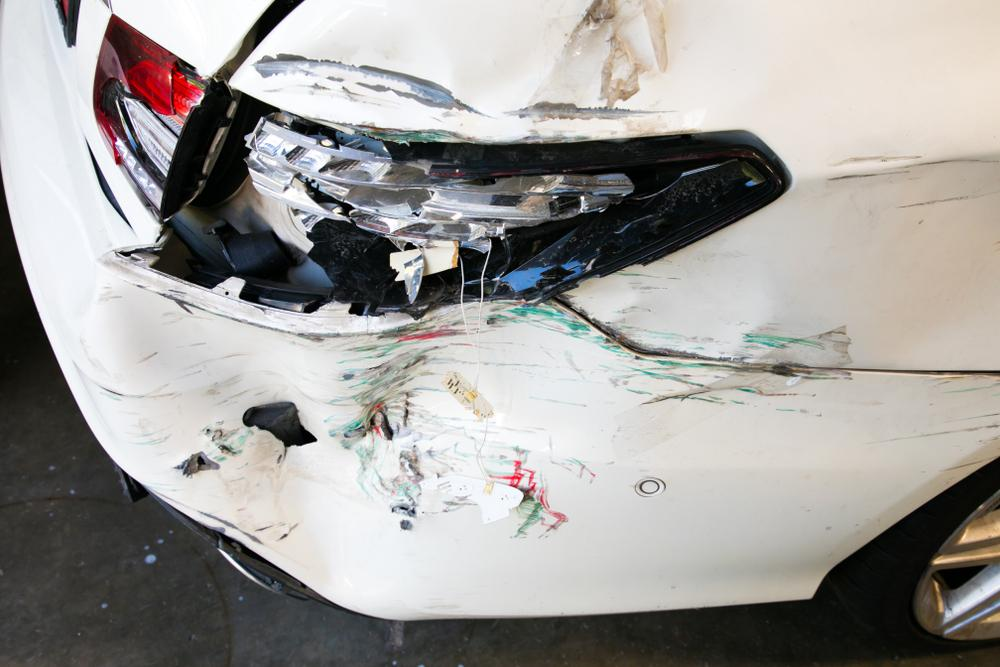dent: (106, 262, 716, 594), (258, 1, 703, 147), (561, 252, 786, 363)
lamp broken: (93, 19, 789, 316)
scratch: (873, 373, 1000, 495), (822, 146, 1000, 214), (683, 361, 859, 420), (760, 320, 855, 368)
